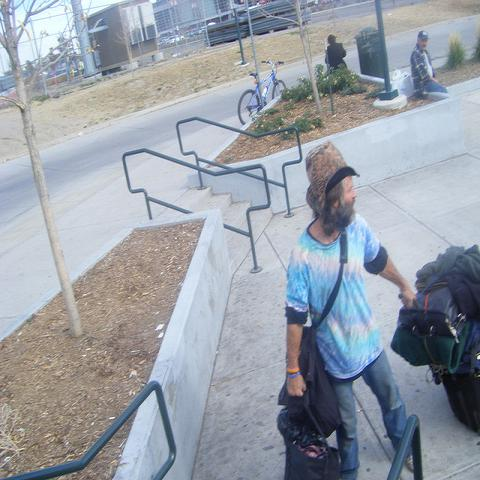car: (167, 35, 185, 43), (190, 29, 201, 36)
